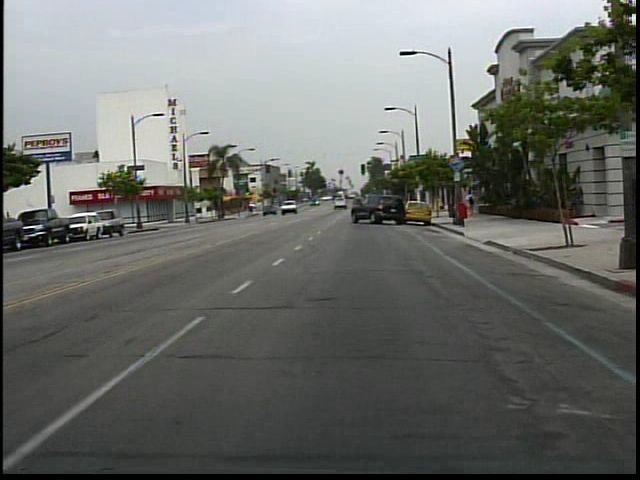person: (466, 187, 479, 219)
